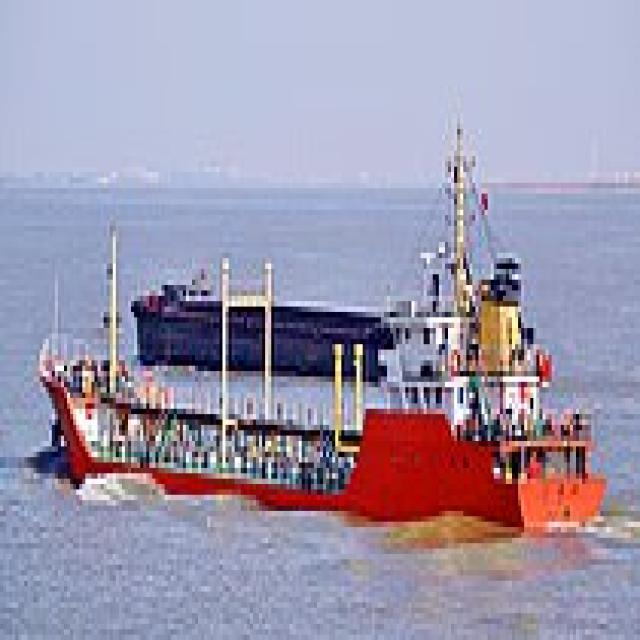Tanker: (33, 108, 610, 532)
